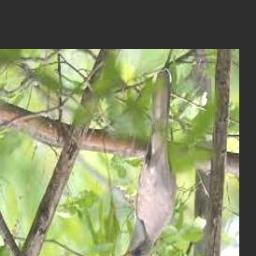Cuckoo: (115, 69, 177, 256)
